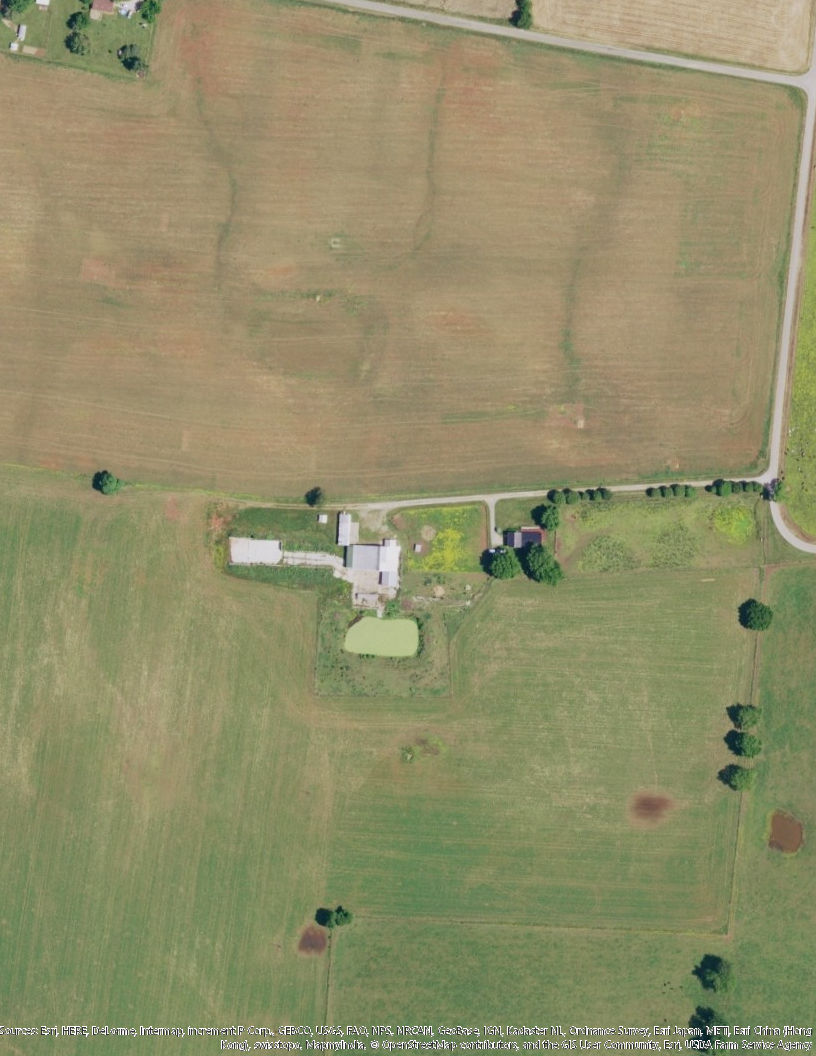cafo: (333, 511, 405, 594)
